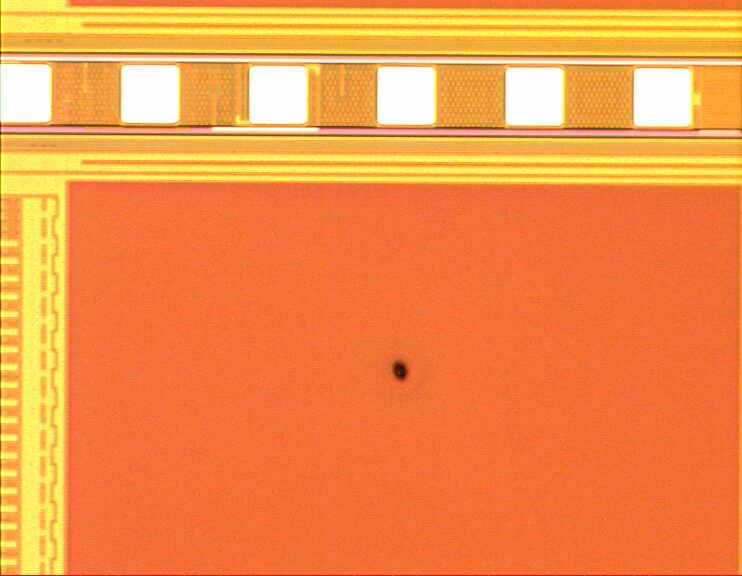PIQ PARTICLE: (385, 356, 417, 388)
